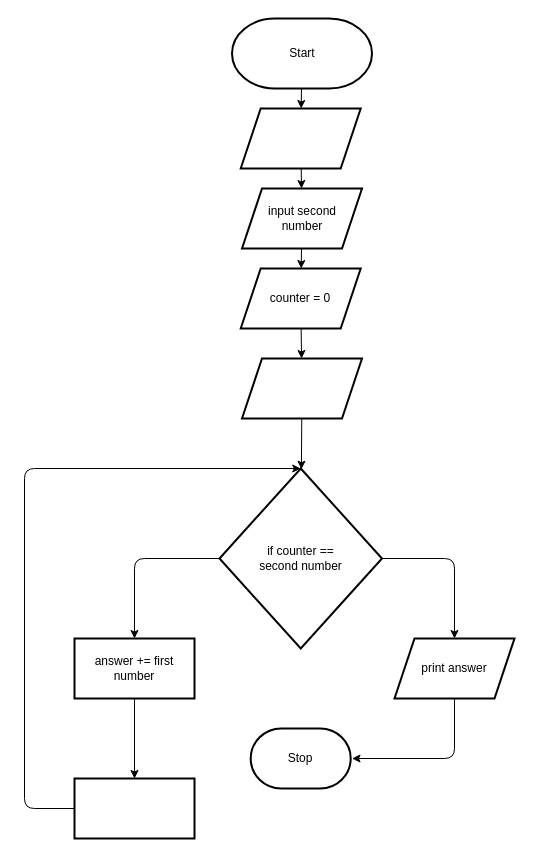
The diagram is 533 pixels wide and 856 high, and some of its shapes have lost their labels. The shapes that lost their labels are listed below. From the top down, each one's centre as x and y in pixels, then its label:
[300,138]: input first number
[301,388]: answer = 0
[134,808]: counter += 1
